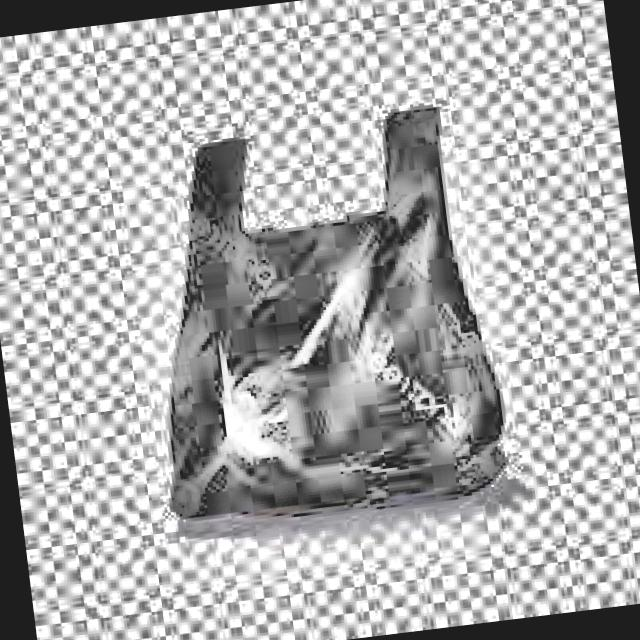plastic bag: (170, 110, 505, 517)
